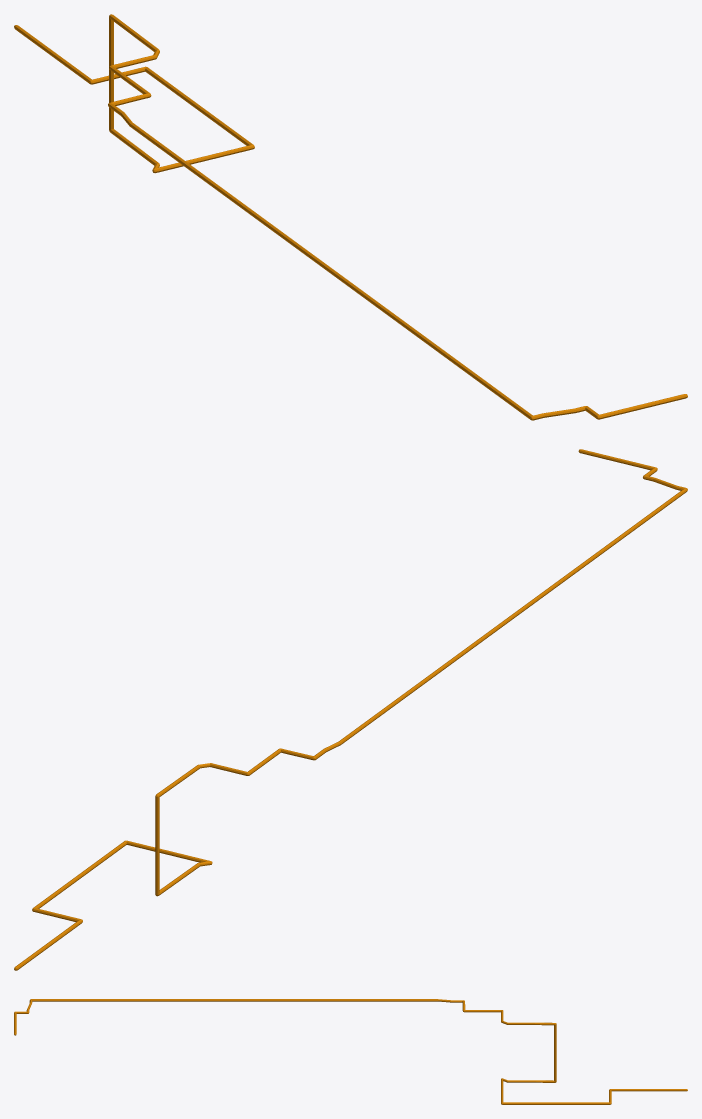
The picture shows the model from 3 angles, top to bottom: view 1: azimuth 30°, elevation 25°; view 2: azimuth 150°, elevation 25°; view 3: azimuth 270°, elevation 25°; orthographic projection. The views are drawn at different scales.
Bounding box in the file's own units: 869 × 520 × 5297.
